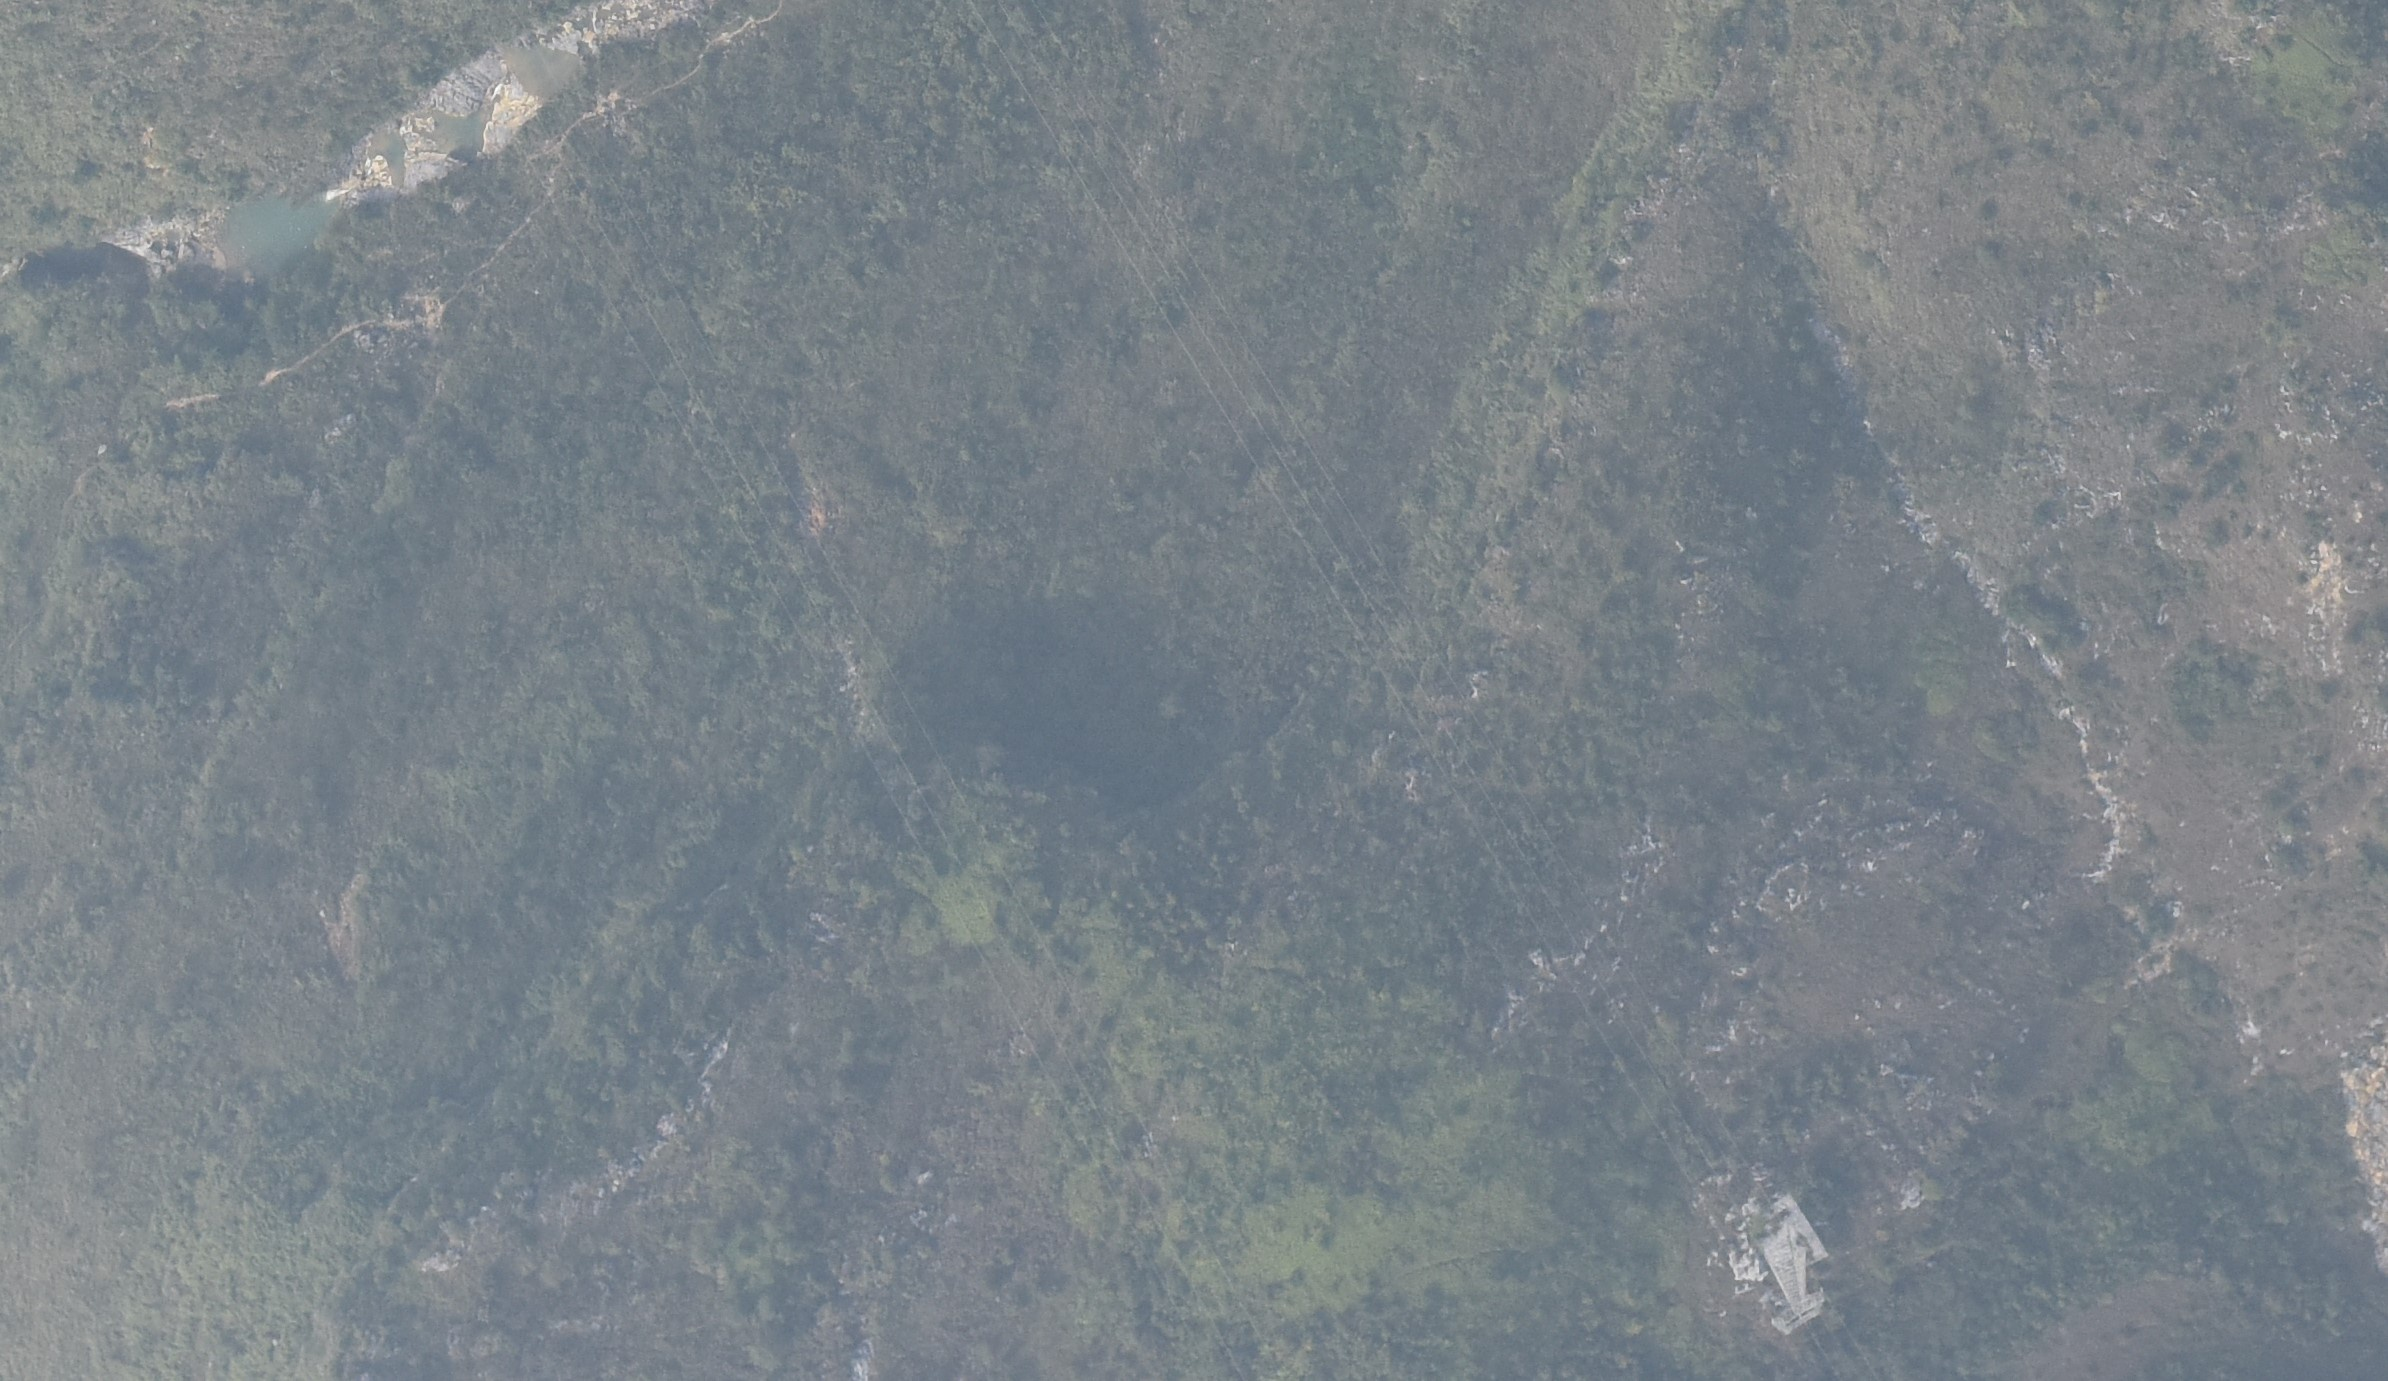cable-tower: (1740, 1188, 1831, 1334)
